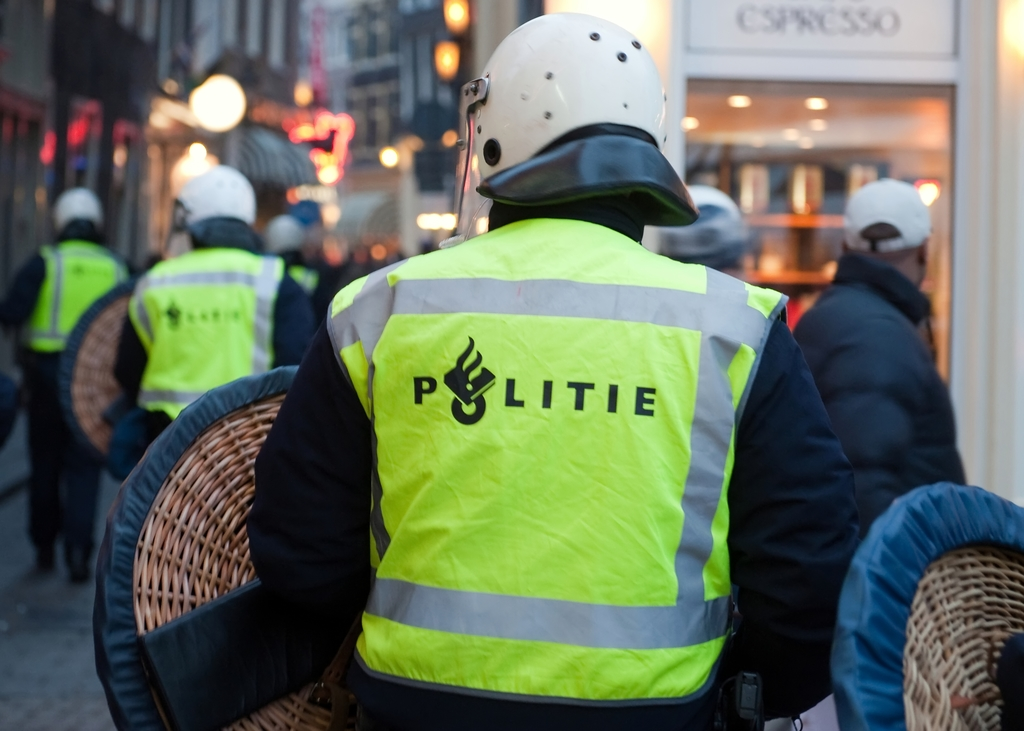Person: (0, 11, 967, 731)
